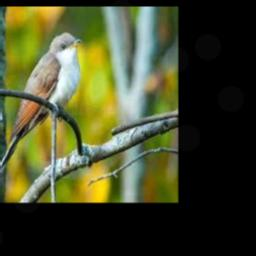Cuckoo: (0, 31, 81, 191)
